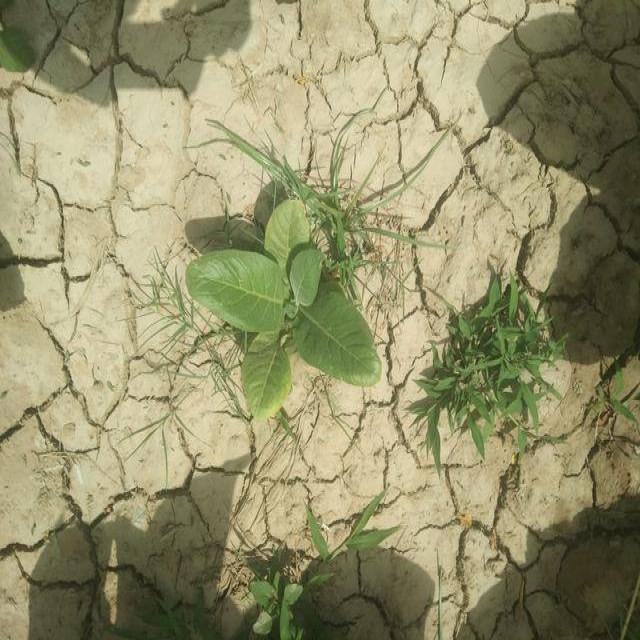crop: (186, 201, 376, 413)
